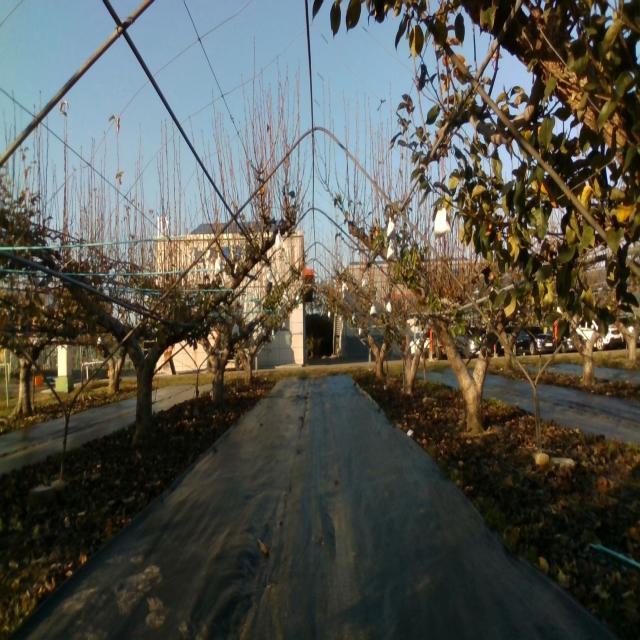pearbags: (434, 208, 452, 242), (386, 240, 398, 262), (385, 215, 396, 239), (215, 252, 225, 278), (275, 228, 285, 252)
